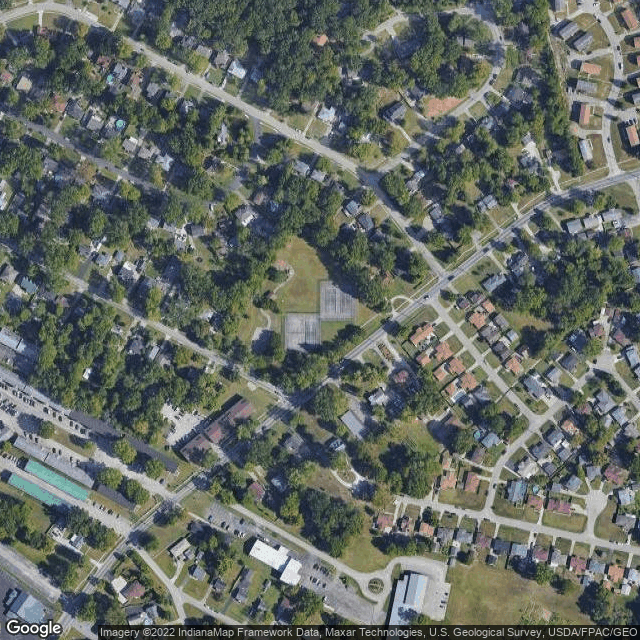Court: (338, 287, 352, 316), (323, 287, 337, 315)
